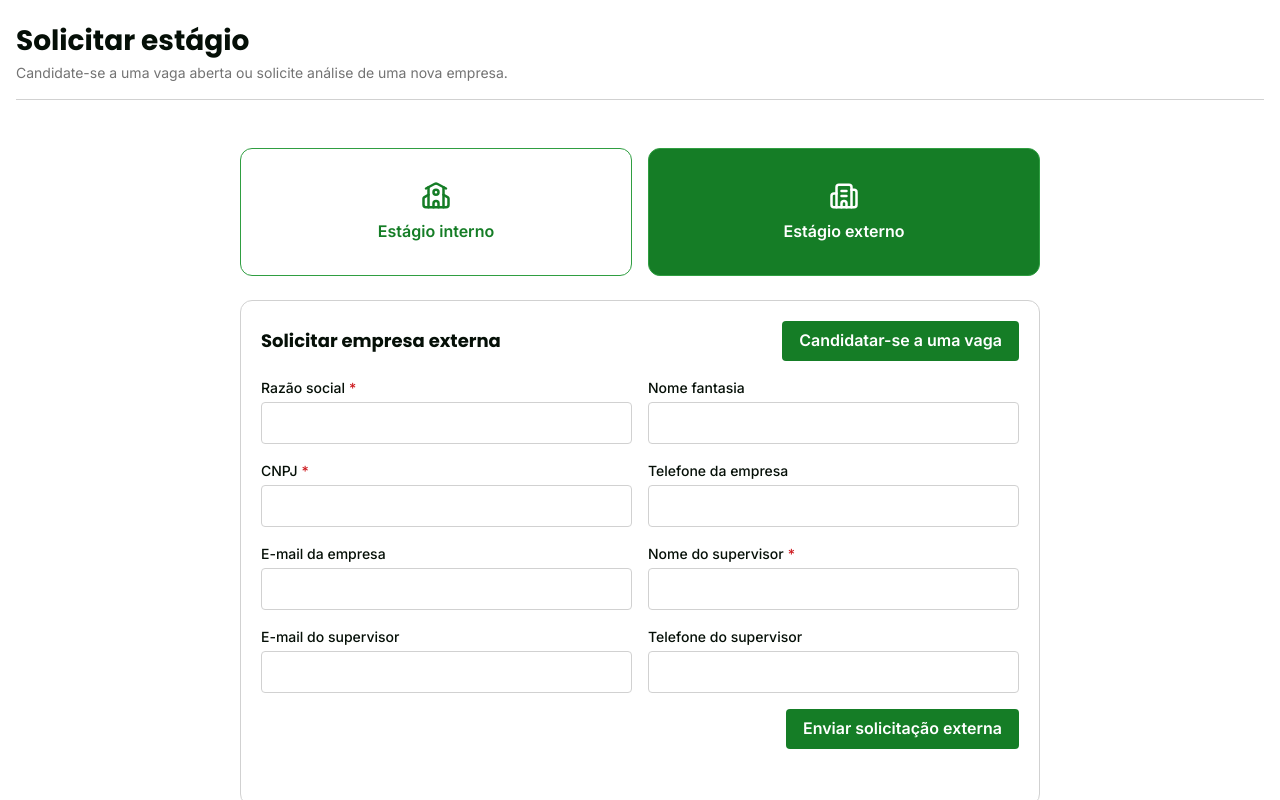
Test: SolicitarEstagio › envia solicitação interna com o DTO confirmado e exibe sucesso
Click the button "Estágio interno" at (436,212), box [240,148,632,276]
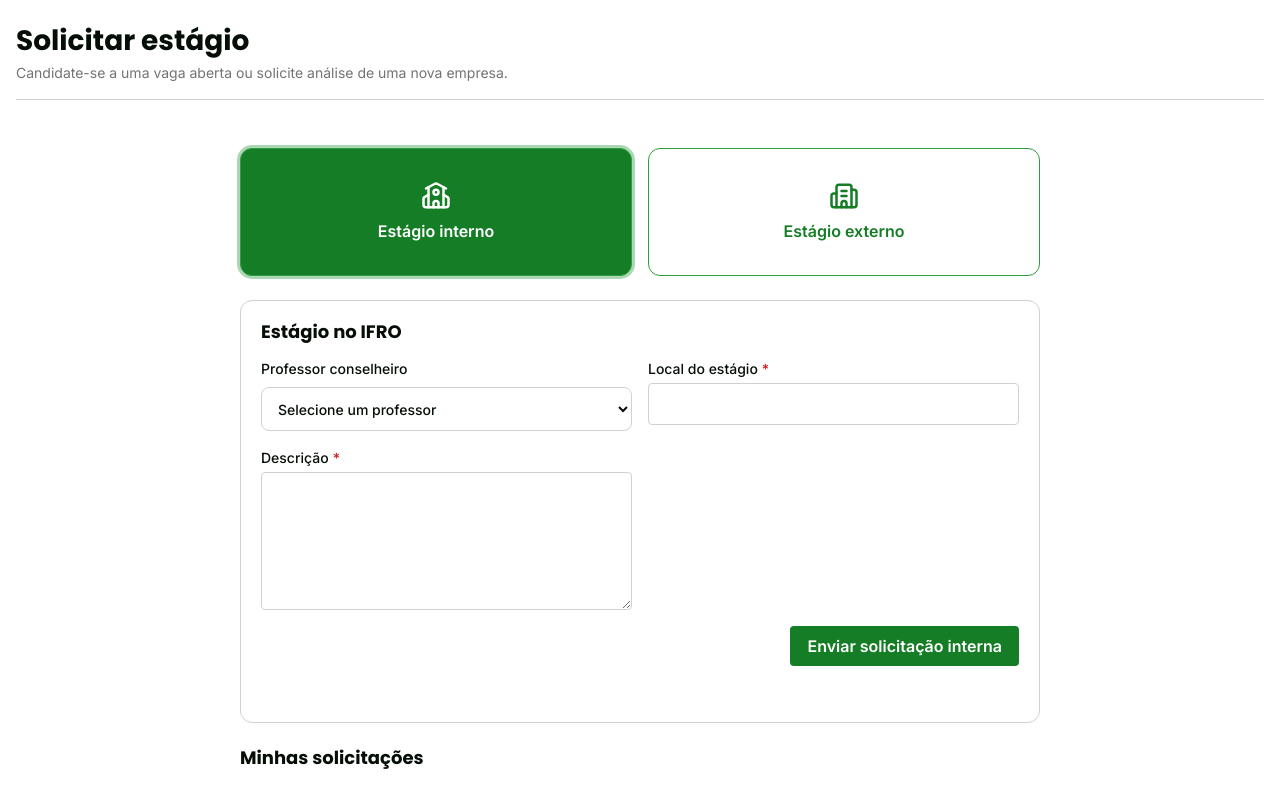
Select "Professora Teste" in the dropdown labelled "Professor conselheiro" at (446,409), box [261,387,632,431]
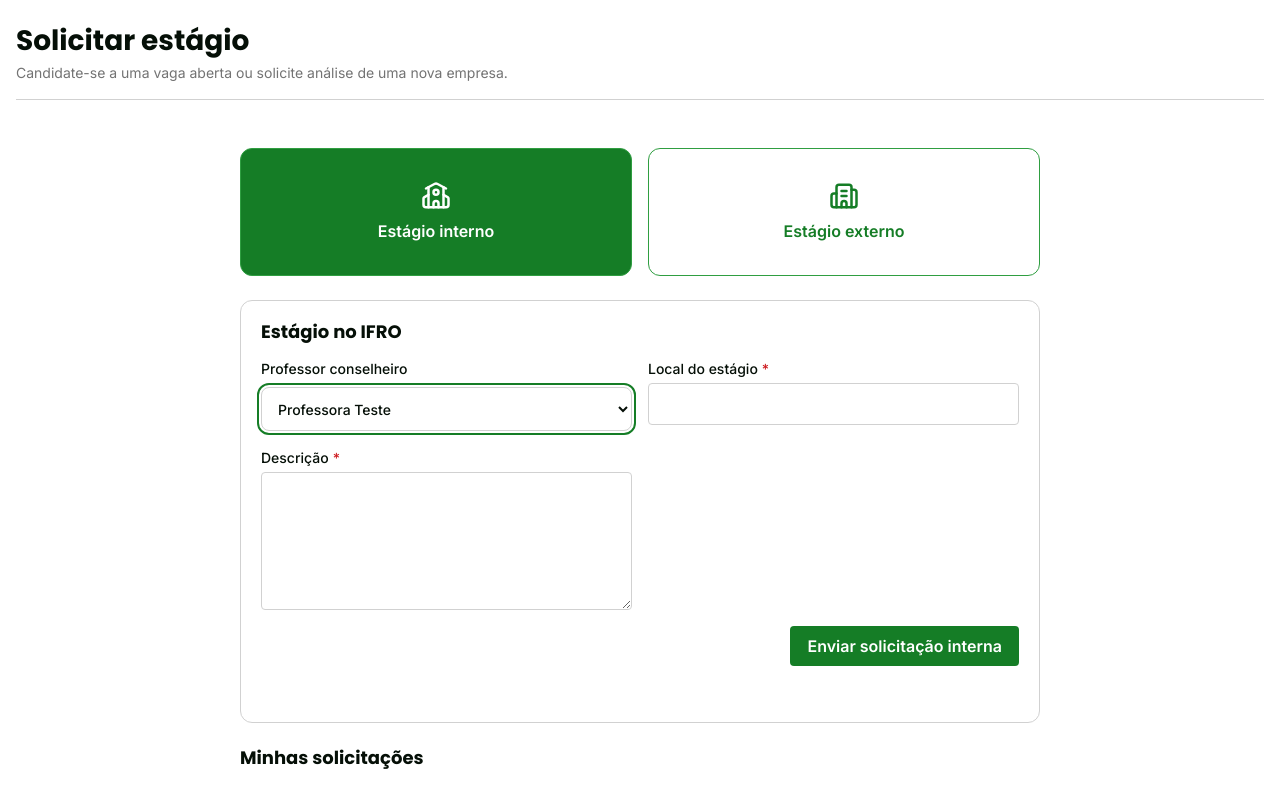
Type "Laboratório de Redes" into the field labelled "Local do estágio*" at (834,404), box [648,383,1019,425]
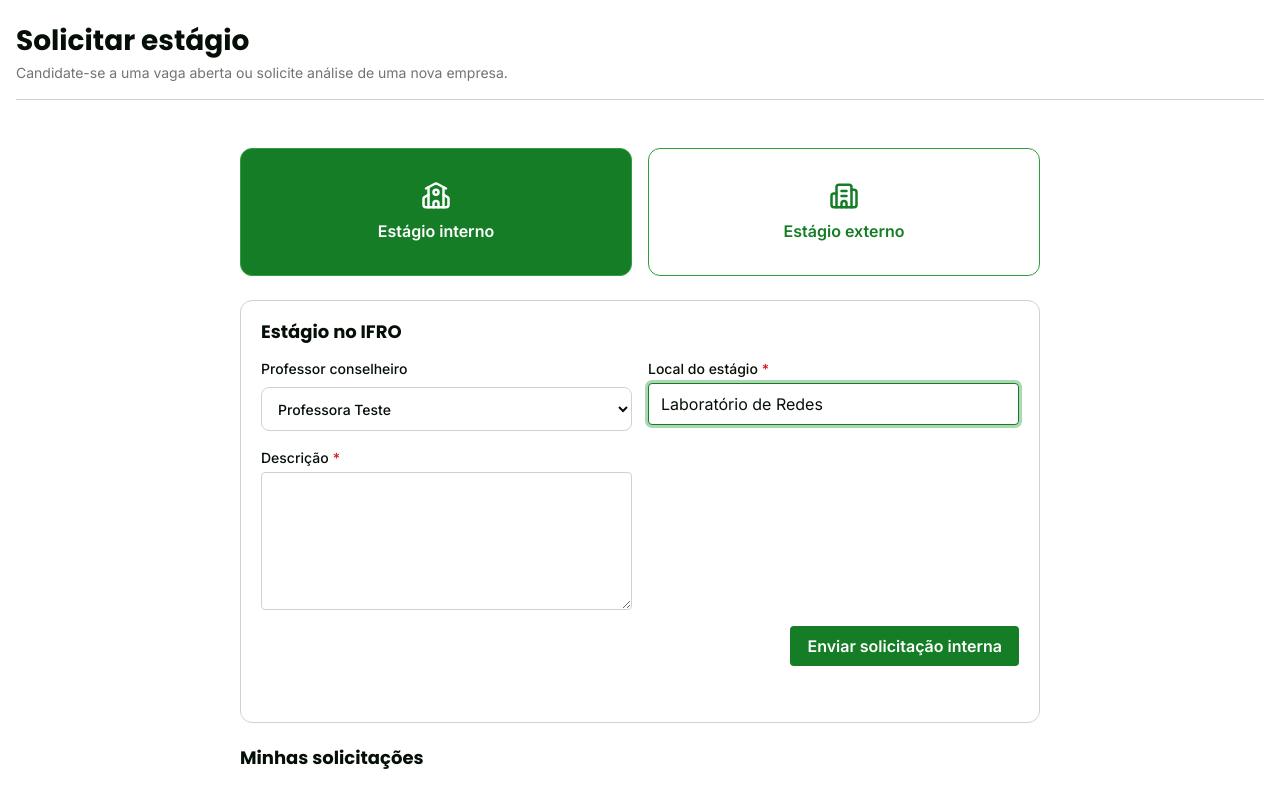
Type "Apoio em manutenção de equipamentos." into the text box labelled "Descrição*" at (446,541), box [261,472,632,610]
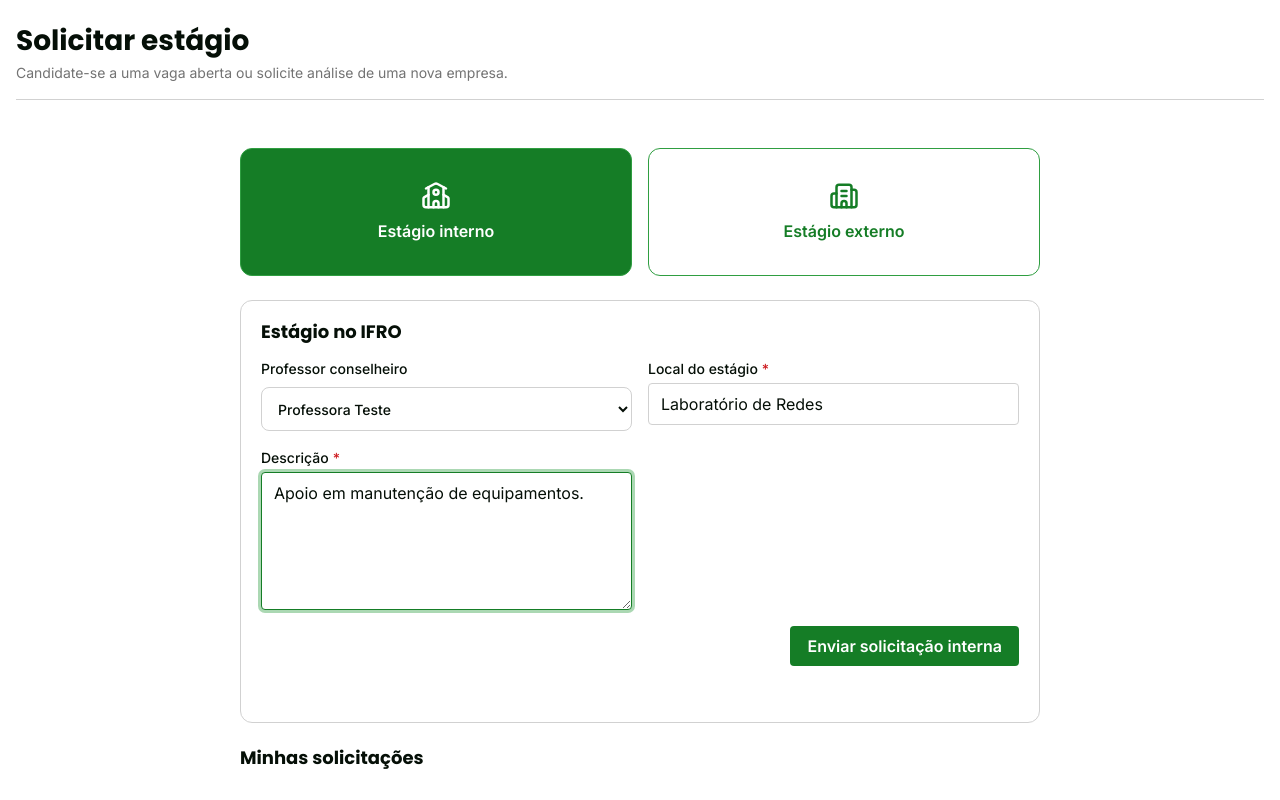
Click the button "Enviar solicitação interna" at (905,646), box [790,626,1019,666]
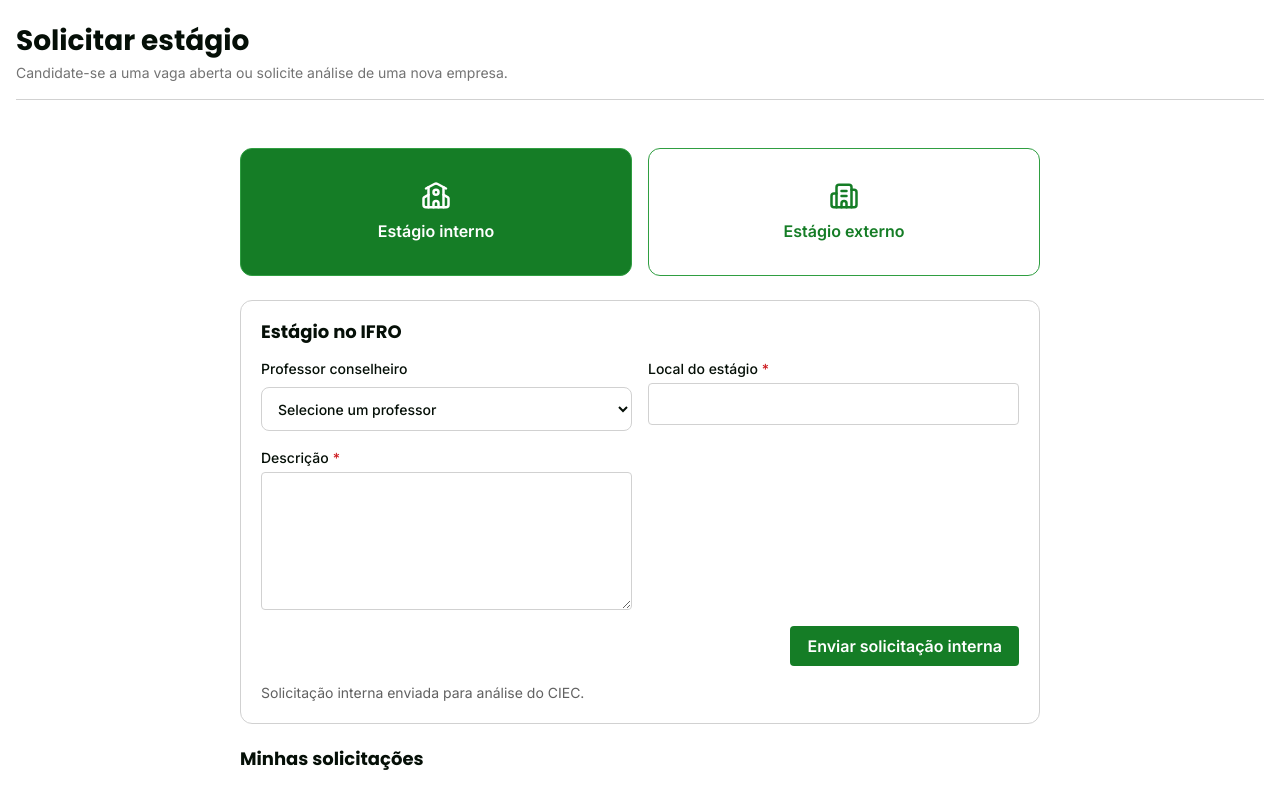
Expected: the text "Solicitação interna enviada para análise do CIEC." is shown, [261,684,584,701]
